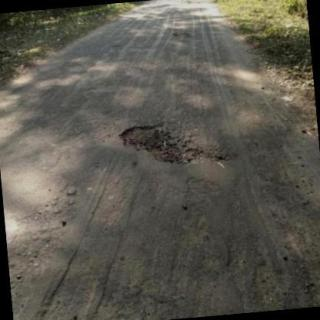pothole: (120, 126, 223, 165)
